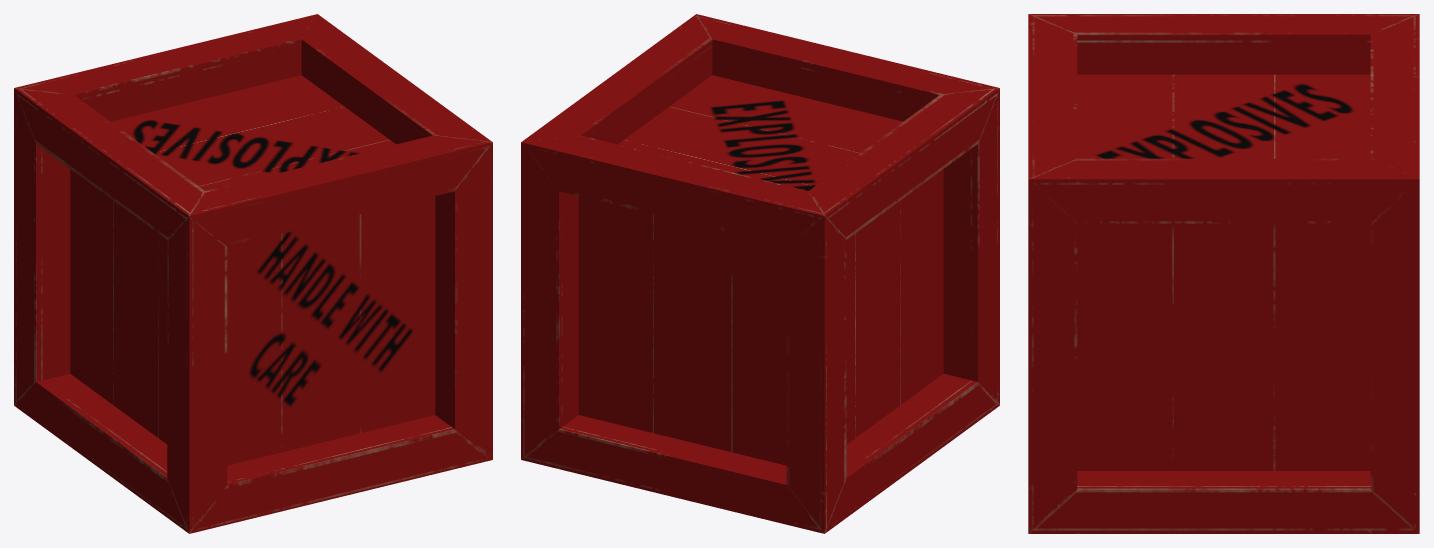
The model's file is ExplosiveCrate.fbx.
3 views of the same model, side by side, from view 1: azimuth 30°, elevation 25°; view 2: azimuth 150°, elevation 25°; view 3: azimuth 270°, elevation 25° (orthographic). The views are drawn at different scales.
Visible parts, largest first — view 1: ExplosiveCrate; view 2: ExplosiveCrate; view 3: ExplosiveCrate.
Part boxes in pixels (left/top/right/bottom): ExplosiveCrate: left=14, top=14, right=492, bottom=533; ExplosiveCrate: left=521, top=14, right=999, bottom=533; ExplosiveCrate: left=1028, top=14, right=1419, bottom=533.
Size of the model in its own units: 0.6 by 0.6 by 0.6.
